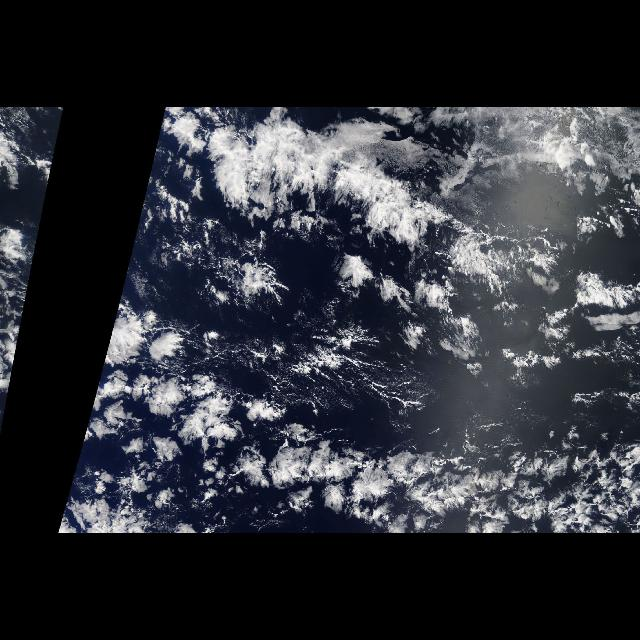Fish: (167, 397, 639, 533), (190, 107, 522, 287)
Flower: (73, 301, 639, 534)
Gravel: (286, 242, 578, 380)
